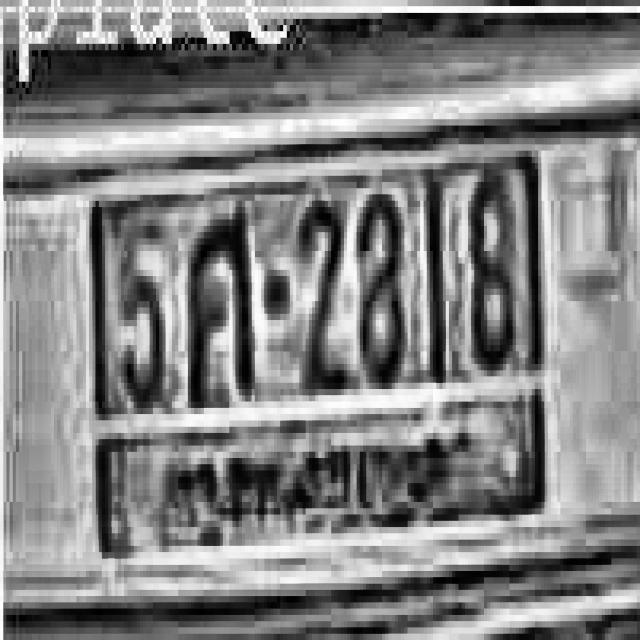license-plate: (3, 119, 640, 640)
